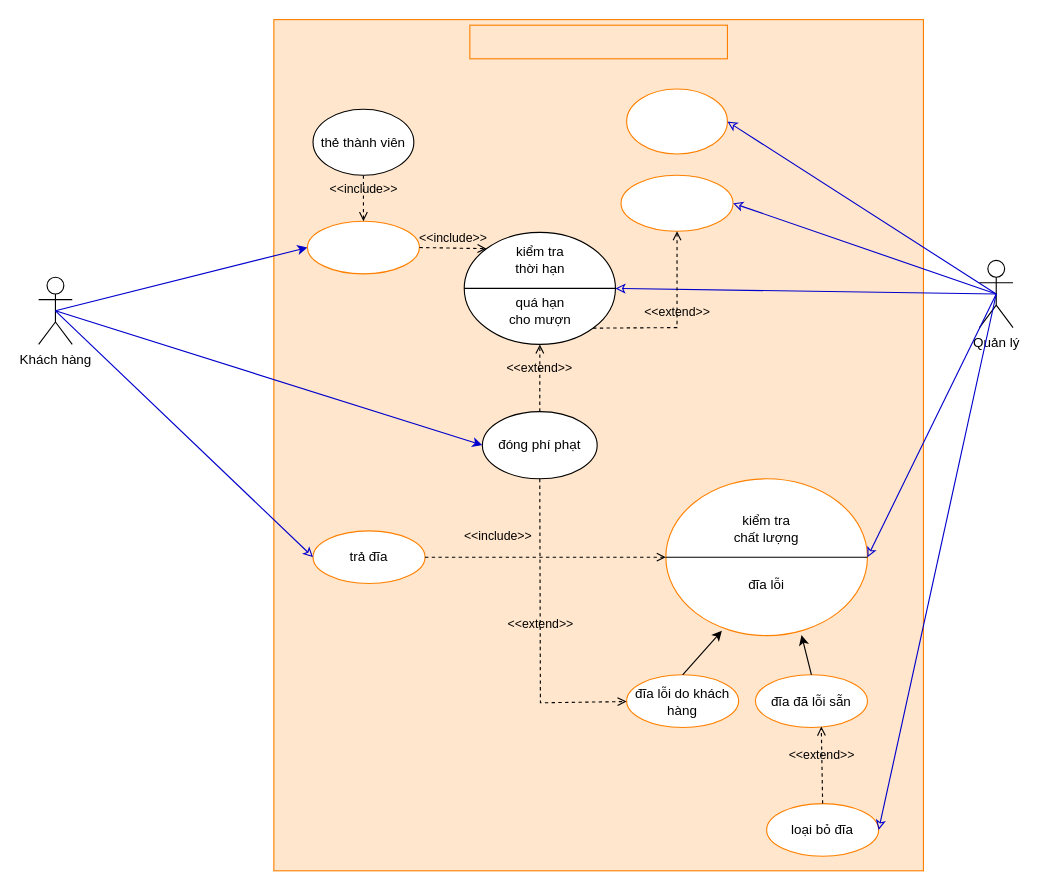
Image size: 1038x890. Some labels were removed from this diagram. The shapes that lost their labels are listed below. From the top down, each one's box as (x1, y1, x2, y2) in pixels, then its label:
(469, 24, 727, 59): Hệ thống quản lý cửa hàng video
(626, 88, 727, 154): phân loại
(620, 174, 733, 231): In danh sách
(306, 220, 419, 274): Mượn đĩa
